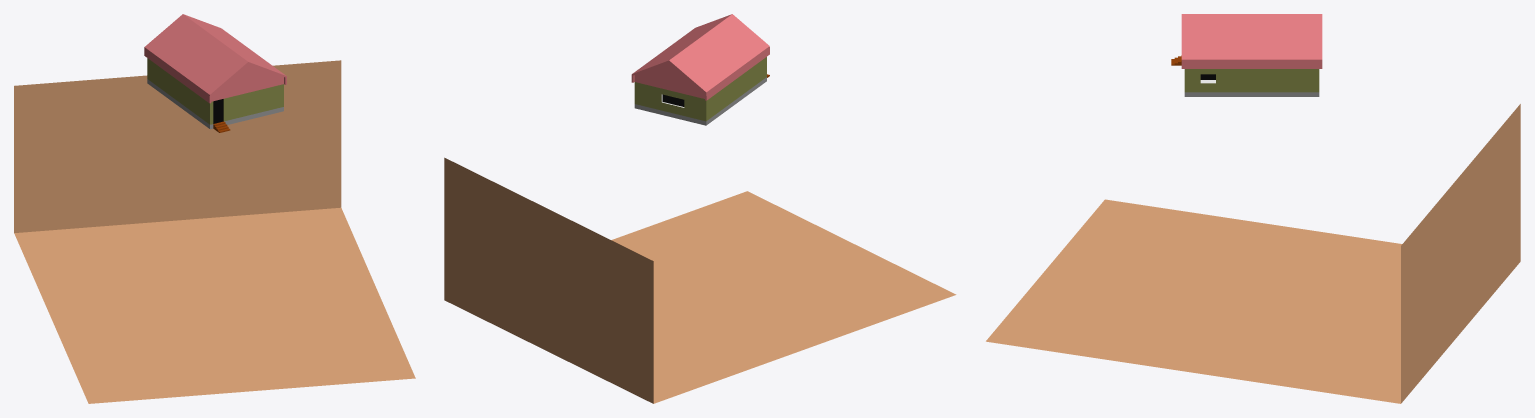
Rendered from House.fbx.
3 renders of one model, left to right at view 1: azimuth 30°, elevation 25°; view 2: azimuth 150°, elevation 25°; view 3: azimuth 270°, elevation 25°, orthographic. The views are drawn at different scales.
Parts seen in each view (by area): view 1: Backgroudn, Roof, House, Fundament, Floor; view 2: Backgroudn, Roof, House, Fundament; view 3: Backgroudn, Roof, House, Fundament.
Boxes of the visible parts, x1=… form: Backgroudn: x1=14, y1=60, x2=415, y2=403; Roof: x1=144, y1=14, x2=286, y2=103; House: x1=147, y1=58, x2=283, y2=124; Fundament: x1=147, y1=80, x2=283, y2=129; Floor: x1=147, y1=79, x2=283, y2=125; Backgroudn: x1=444, y1=157, x2=956, y2=403; Roof: x1=631, y1=14, x2=769, y2=100; House: x1=634, y1=57, x2=766, y2=121; Fundament: x1=634, y1=78, x2=766, y2=125; Backgroudn: x1=986, y1=104, x2=1520, y2=403; Roof: x1=1181, y1=14, x2=1322, y2=68; House: x1=1184, y1=69, x2=1319, y2=92; Fundament: x1=1184, y1=93, x2=1319, y2=96.
Size of the model in its own units: 5393 by 3539 by 5961.
